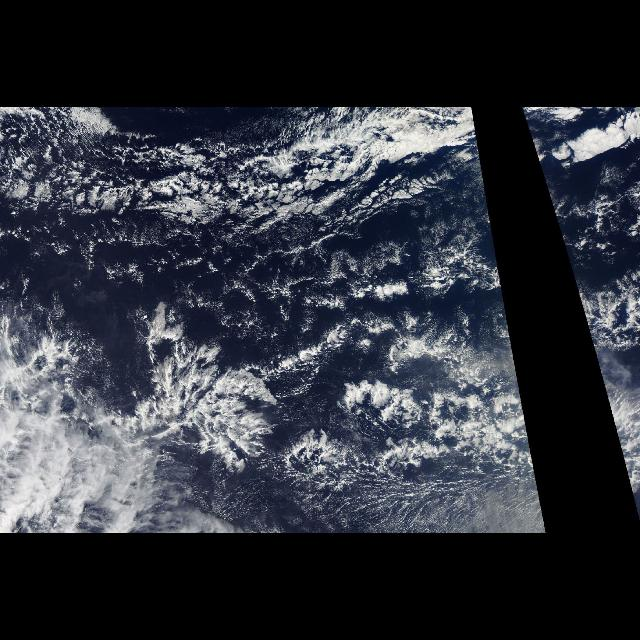Fish: (61, 290, 540, 500), (5, 131, 365, 221)
Gravel: (336, 270, 534, 468), (571, 270, 639, 468)
Sugar: (123, 220, 357, 326), (333, 471, 545, 534)
